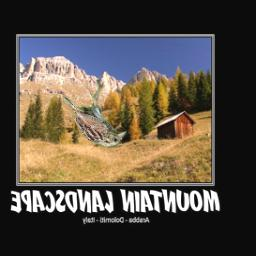Sparrow: (63, 81, 127, 147)
